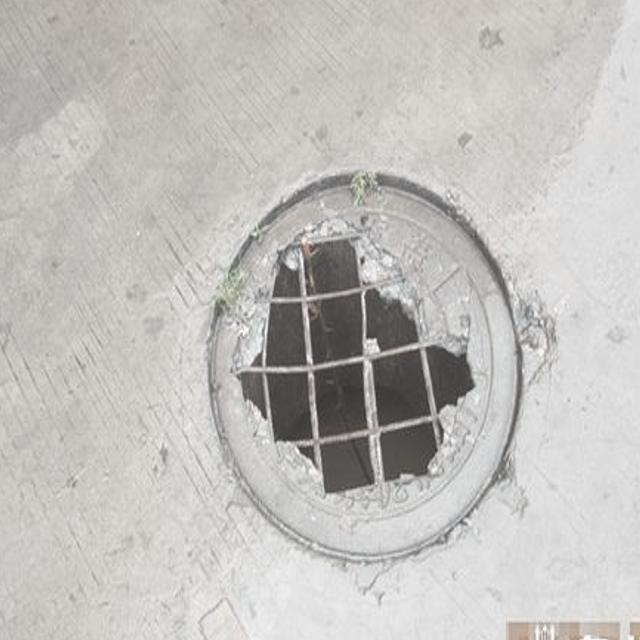broke: (170, 141, 569, 601)
